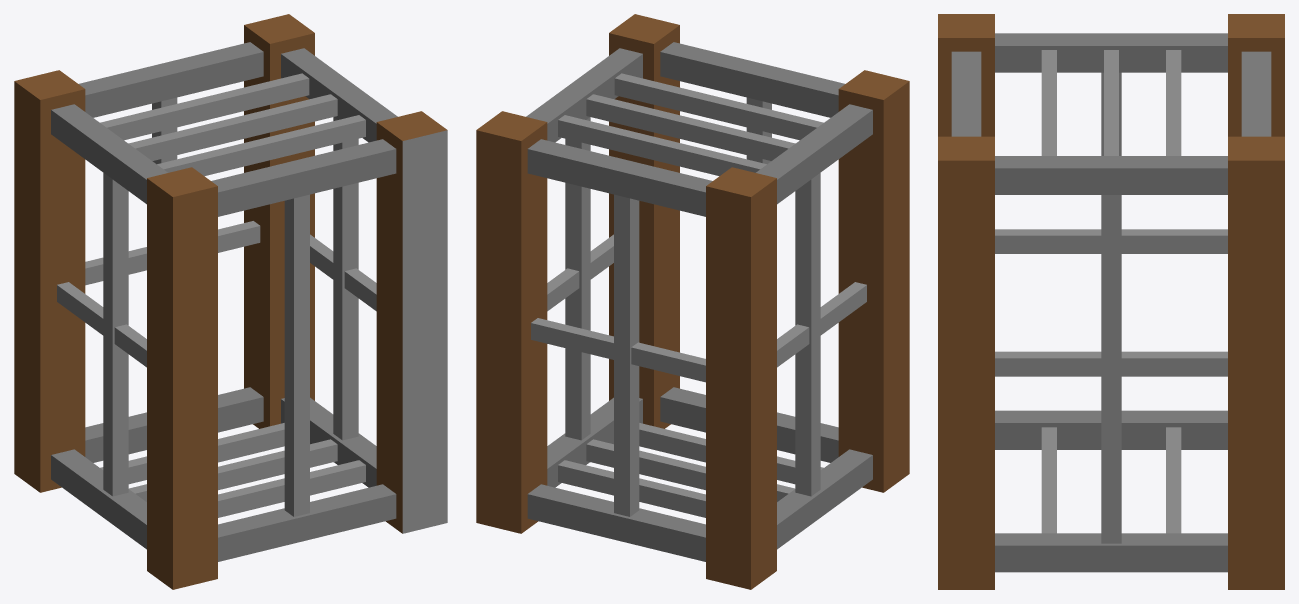
File: LPCP_Cage05.fbx
3 views of the same model, side by side, from view 1: azimuth 30°, elevation 25°; view 2: azimuth 150°, elevation 25°; view 3: azimuth 270°, elevation 25° (orthographic). The views are drawn at different scales.
Visible parts, largest first — view 1: LPCP_Cage05; view 2: LPCP_Cage05; view 3: LPCP_Cage05.
Boxes of the visible parts, x1,y1,x2,y2 form: LPCP_Cage05: [14, 14, 447, 589]; LPCP_Cage05: [476, 14, 909, 589]; LPCP_Cage05: [938, 14, 1284, 589].
Bounding box in the file's own units: 1.67 × 2.29 × 1.67.
